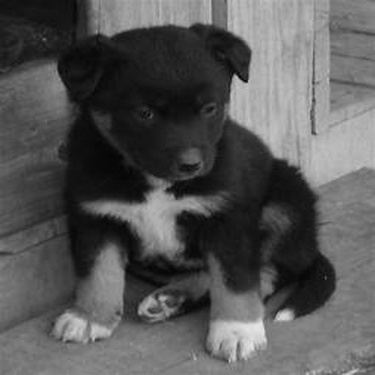dog: (38, 9, 341, 367)
